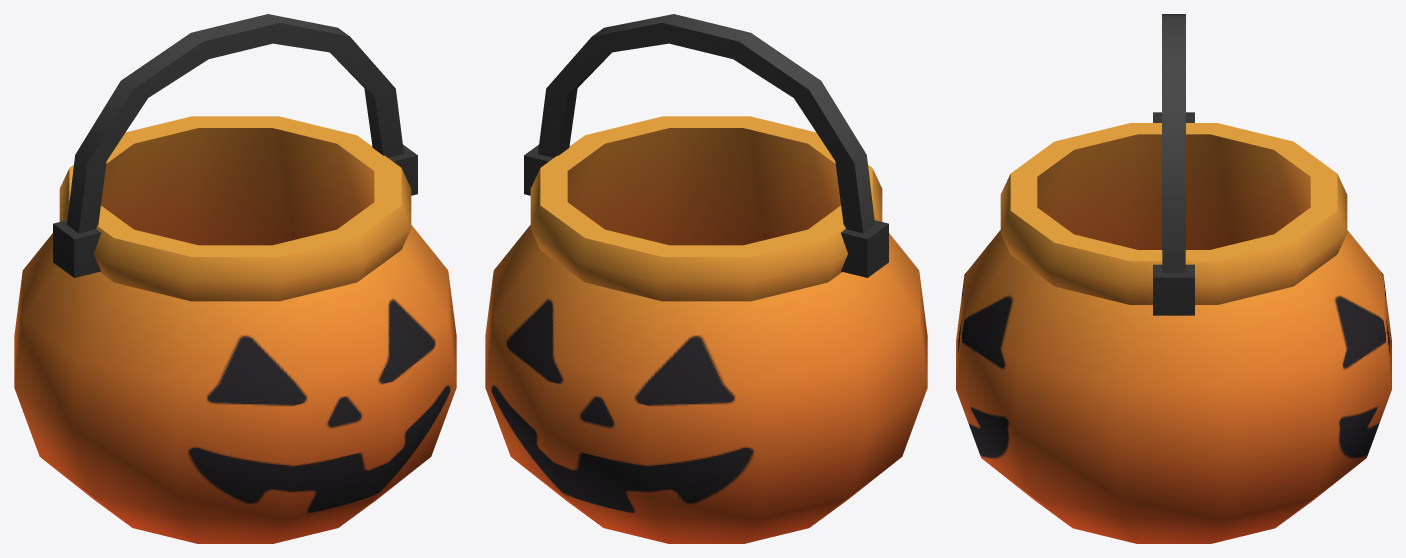
Rendered from candy_bucket_B.gltf.
3 renders of one model, left to right at view 1: azimuth 30°, elevation 25°; view 2: azimuth 150°, elevation 25°; view 3: azimuth 270°, elevation 25°, orthographic.
Visible parts, largest first — view 1: candy_bucket_B, candy_bucket_B_handle; view 2: candy_bucket_B, candy_bucket_B_handle; view 3: candy_bucket_B, candy_bucket_B_handle.
Part boxes in pixels (x1=…): candy_bucket_B: x1=14, y1=116, x2=456, y2=543; candy_bucket_B_handle: x1=53, y1=14, x2=417, y2=277; candy_bucket_B: x1=485, y1=116, x2=927, y2=543; candy_bucket_B_handle: x1=524, y1=14, x2=888, y2=277; candy_bucket_B: x1=956, y1=123, x2=1391, y2=543; candy_bucket_B_handle: x1=1153, y1=14, x2=1194, y2=315.
Bounding box in the file's own units: 1 × 1.17 × 1.
Materials: 1 (1 with a texture image).
